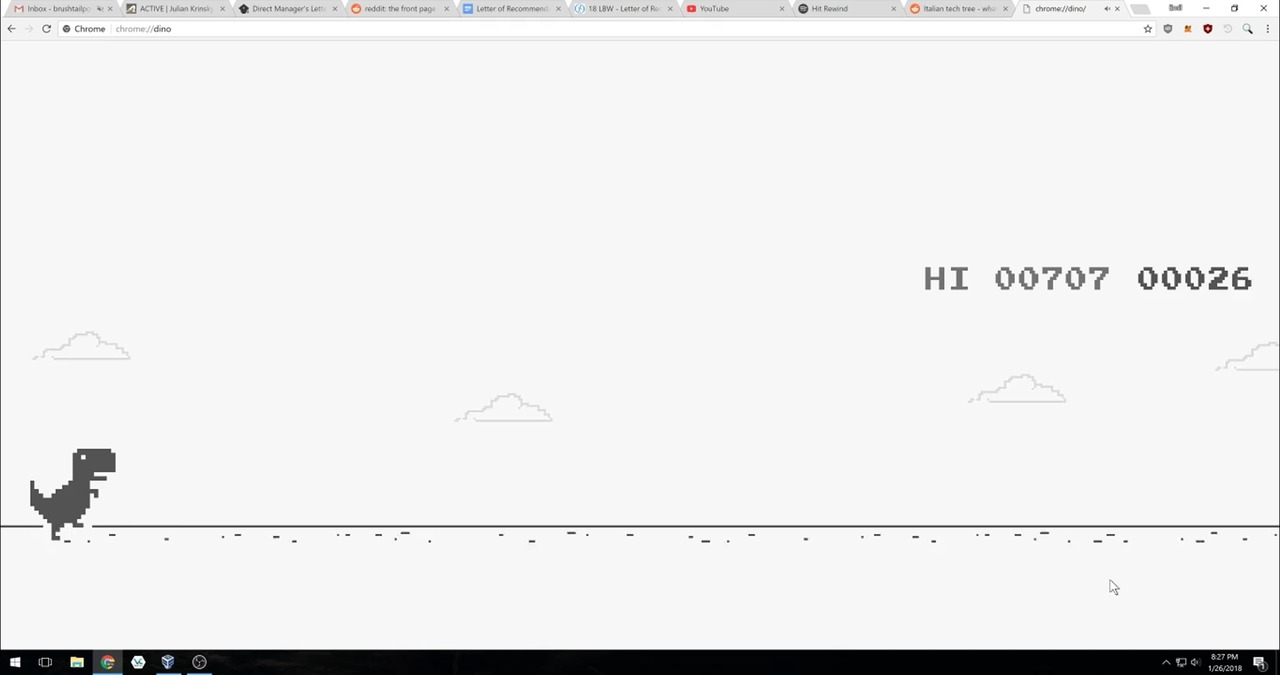dinosaur: (29, 448, 119, 539)
